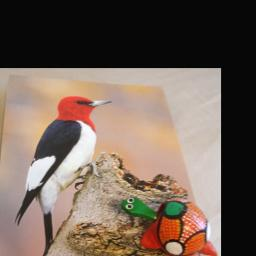Woodpecker: (14, 94, 112, 256)
